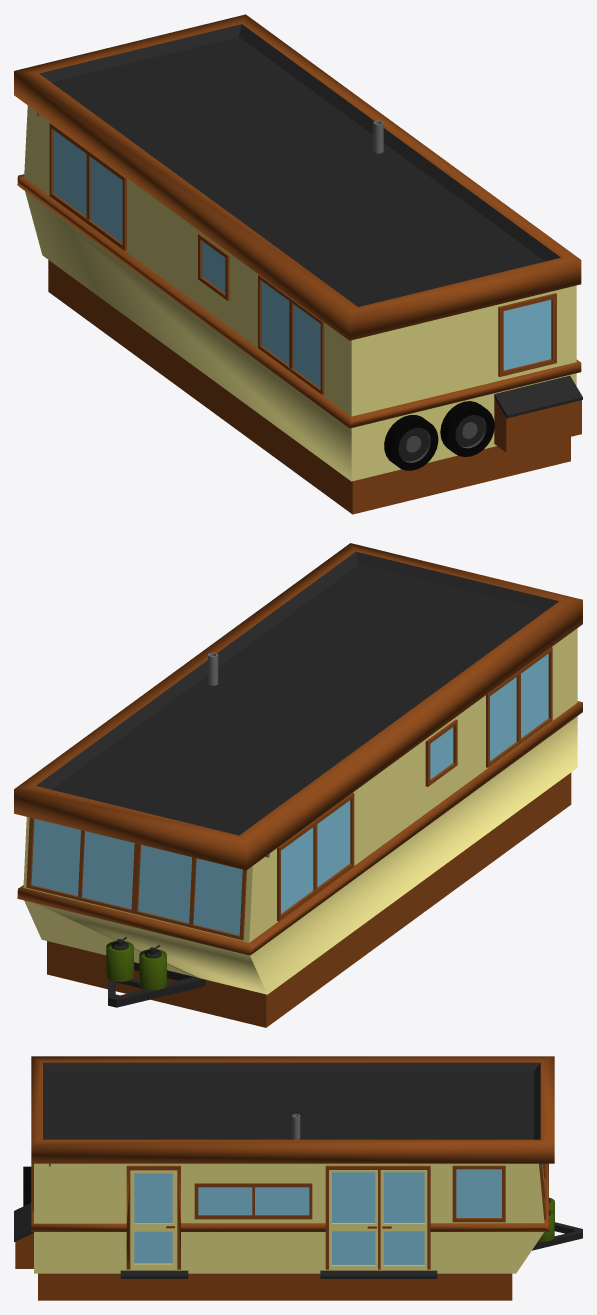
File: Staan_Cerven.fbx
3 renders of one model, top to bottom at view 1: azimuth 30°, elevation 25°; view 2: azimuth 150°, elevation 25°; view 3: azimuth 270°, elevation 25°, orthographic. The views are drawn at different scales.
Parts seen in each view (by area): view 1: Model; view 2: Model; view 3: Model.
Boxes of the visible parts, left/top/right/bottom form: Model: left=14, top=14, right=582, bottom=514; Model: left=14, top=543, right=582, bottom=1027; Model: left=14, top=1056, right=582, bottom=1300.
Bounding box in the file's own units: 3.26 × 2.88 × 8.51.
